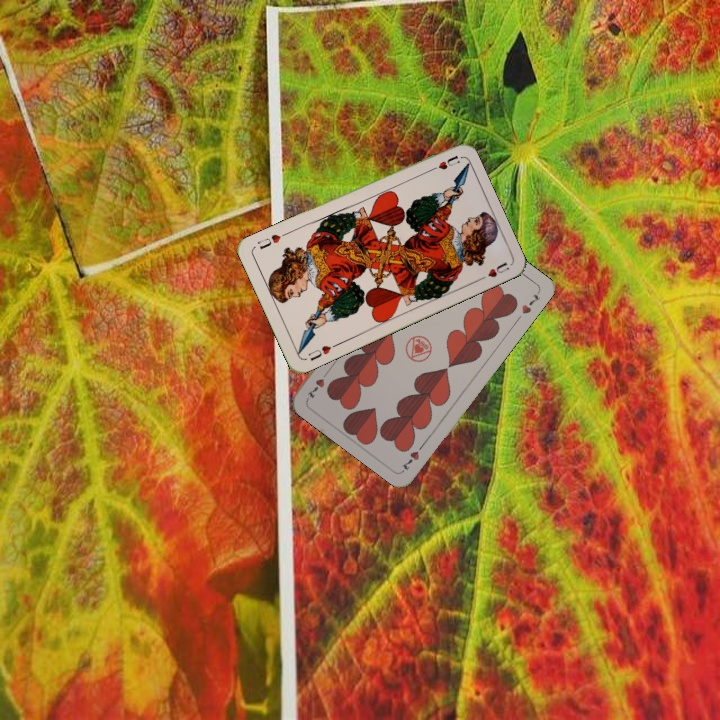H7: (398, 439, 427, 474)
HU: (423, 151, 462, 175), (304, 340, 340, 364)
